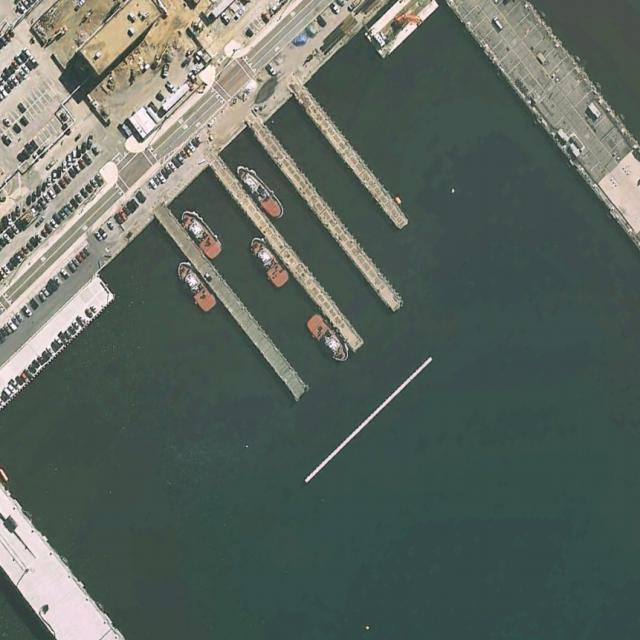Hovercraft: (230, 160, 285, 223), (176, 202, 227, 263), (242, 232, 292, 291), (303, 310, 354, 367), (171, 256, 219, 315)
